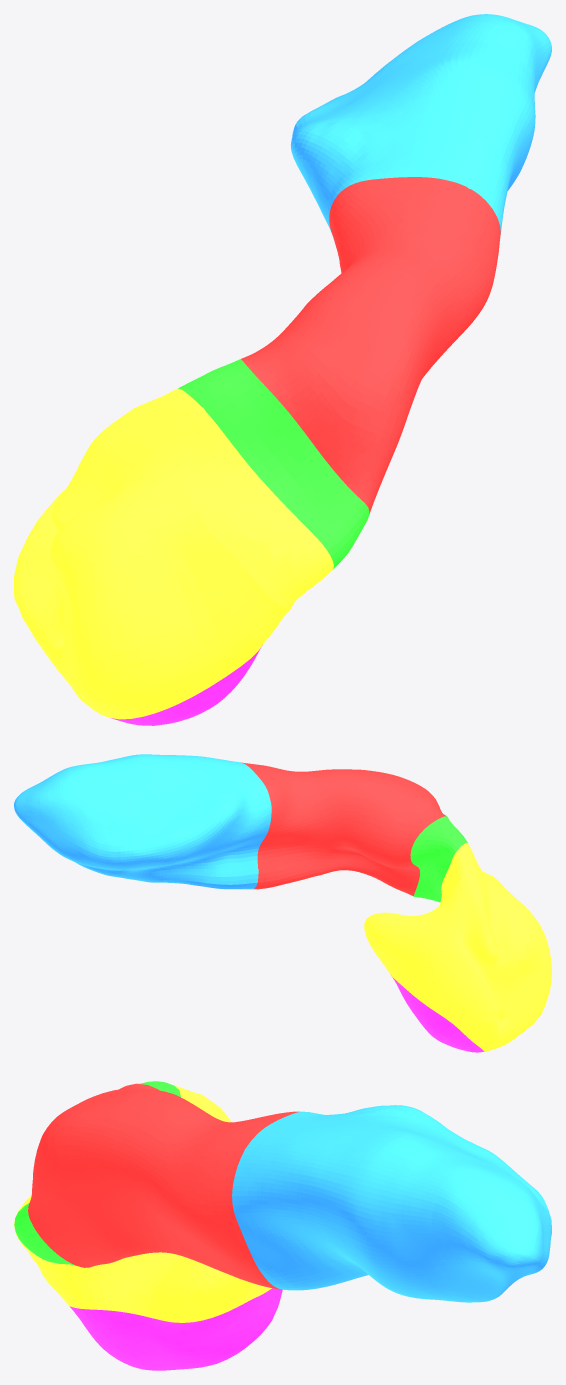
Rendered from pankreas-male.glb.
3 views of the same model, one above another, from view 1: azimuth 30°, elevation 25°; view 2: azimuth 150°, elevation 25°; view 3: azimuth 270°, elevation 25° (orthographic). The views are drawn at different scales.
Visible parts, largest first — view 1: 0:1:VH_M_head_of_pancreas, 0:0:VH_M_body_of_pancreas, 0:3:VH_M_tail_of_pancreas, 0:2:VH_M_neck_of_pancreas, 0:4:VH_M_uncinate_process_of_the_pancreas; view 2: 0:3:VH_M_tail_of_pancreas, 0:1:VH_M_head_of_pancreas, 0:0:VH_M_body_of_pancreas, 0:2:VH_M_neck_of_pancreas, 0:4:VH_M_uncinate_process_of_the_pancreas; view 3: 0:3:VH_M_tail_of_pancreas, 0:0:VH_M_body_of_pancreas, 0:1:VH_M_head_of_pancreas, 0:4:VH_M_uncinate_process_of_the_pancreas, 0:2:VH_M_neck_of_pancreas.
Part boxes in pixels (box(x1,y1,x2,y2)): 0:1:VH_M_head_of_pancreas: box(14, 388, 333, 719); 0:0:VH_M_body_of_pancreas: box(241, 177, 500, 515); 0:3:VH_M_tail_of_pancreas: box(290, 14, 551, 235); 0:2:VH_M_neck_of_pancreas: box(178, 359, 369, 569); 0:4:VH_M_uncinate_process_of_the_pancreas: box(110, 645, 262, 725); 0:3:VH_M_tail_of_pancreas: box(14, 754, 271, 889); 0:1:VH_M_head_of_pancreas: box(364, 843, 551, 1051); 0:0:VH_M_body_of_pancreas: box(242, 762, 446, 896); 0:2:VH_M_neck_of_pancreas: box(410, 816, 467, 902); 0:4:VH_M_uncinate_process_of_the_pancreas: box(391, 975, 484, 1052); 0:3:VH_M_tail_of_pancreas: box(232, 1105, 551, 1302); 0:0:VH_M_body_of_pancreas: box(28, 1083, 299, 1289); 0:1:VH_M_head_of_pancreas: box(14, 1086, 271, 1322); 0:4:VH_M_uncinate_process_of_the_pancreas: box(70, 1288, 282, 1370); 0:2:VH_M_neck_of_pancreas: box(14, 1081, 180, 1267).
Size of the model in its own units: 0.1114 by 0.072 by 0.0836.
